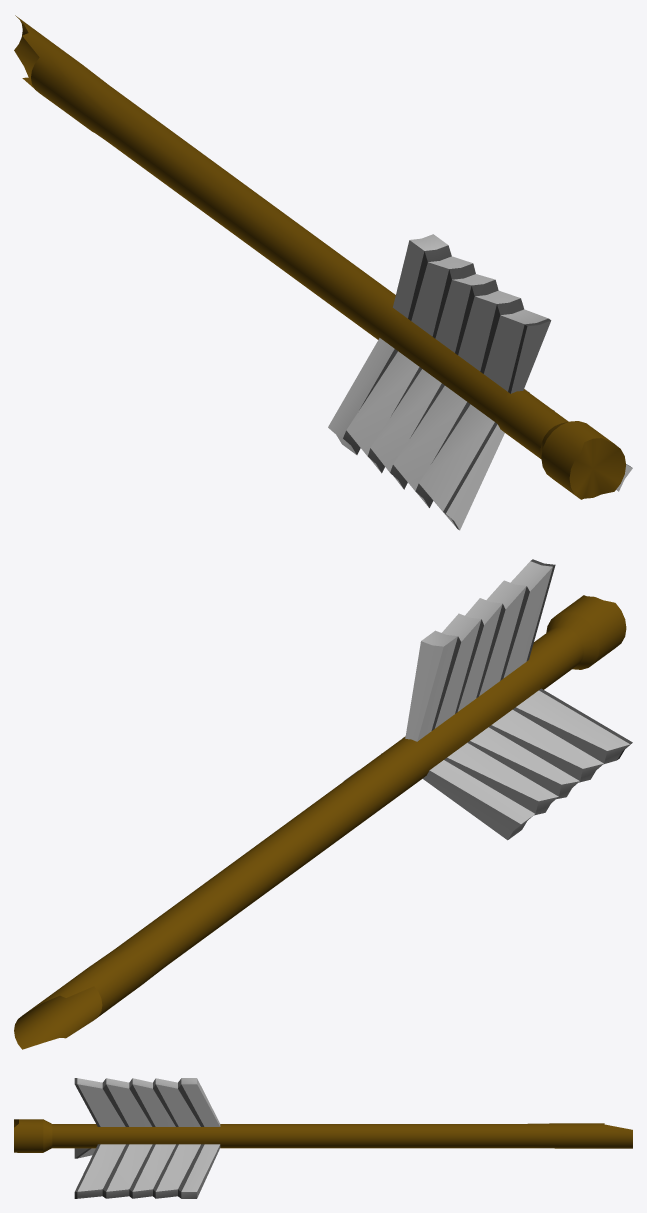
Rendered from lowerhalf_broken_arrow.fbx.
3 renders of one model, top to bottom at view 1: azimuth 30°, elevation 25°; view 2: azimuth 150°, elevation 25°; view 3: azimuth 270°, elevation 25°, orthographic. The views are drawn at different scales.
Visible parts, largest first — view 1: polySurface277; view 2: polySurface277; view 3: polySurface277.
Part boxes in pixels (x1,y1,x2,y2): polySurface277: (14,15,632,530); polySurface277: (14,559,632,1049); polySurface277: (14,1078,632,1198).
Bounding box in the file's own units: 18.19 × 17.45 × 100.
